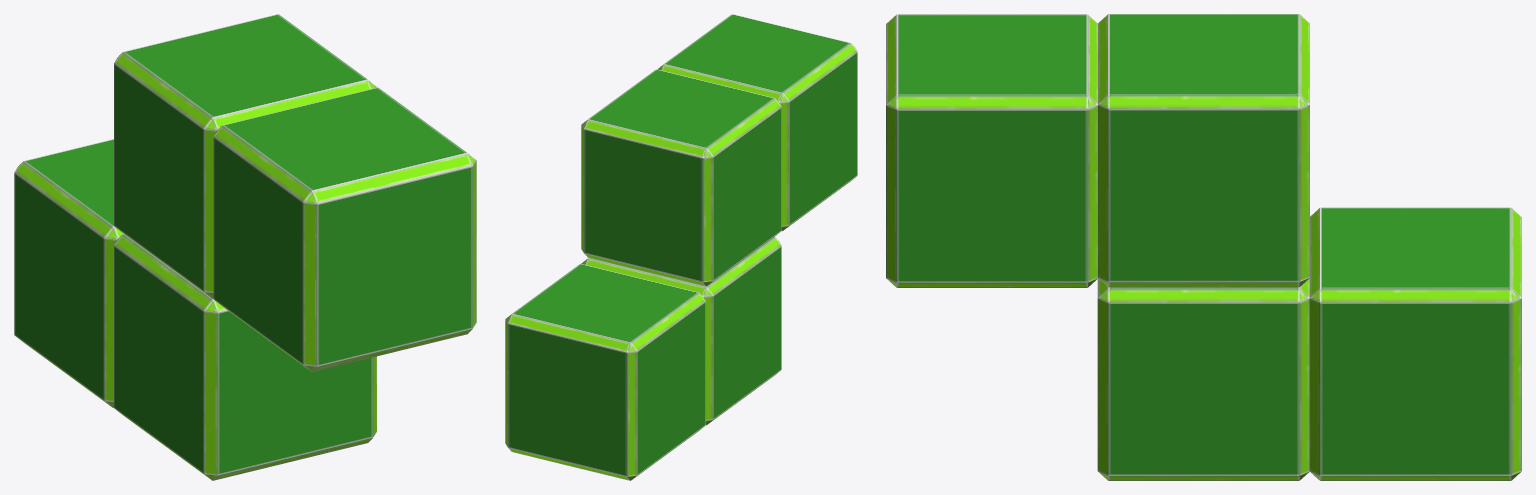
Rendered from Green Block.fbx.
3 views of the same model, side by side, from view 1: azimuth 30°, elevation 25°; view 2: azimuth 150°, elevation 25°; view 3: azimuth 270°, elevation 25° (orthographic). The views are drawn at different scales.
Visible parts, largest first — view 1: pCube40; view 2: pCube40; view 3: pCube40.
Part boxes in pixels (bbox=[...]): pCube40: bbox=[14, 14, 476, 480]; pCube40: bbox=[505, 14, 857, 480]; pCube40: bbox=[886, 14, 1521, 480].
Size of the model in its own units: 1 by 2.01 by 2.99.
